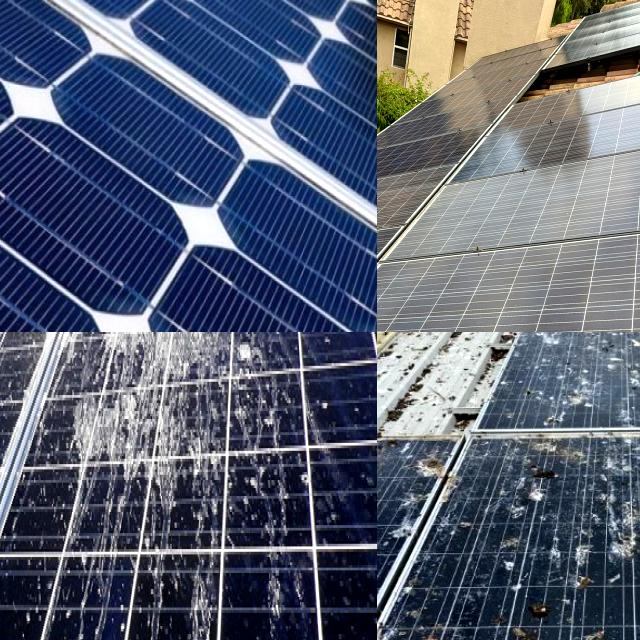bird: (78, 401, 180, 503), (383, 441, 463, 514), (557, 436, 640, 501), (551, 354, 640, 412), (585, 517, 640, 601), (483, 584, 560, 640), (109, 332, 196, 379), (227, 332, 271, 414), (377, 466, 409, 573), (0, 332, 67, 381), (264, 563, 306, 629), (193, 555, 216, 640), (158, 332, 219, 363), (0, 332, 28, 395), (0, 332, 28, 369), (64, 332, 107, 355)
crack: (0, 0, 377, 332)
dust: (505, 237, 610, 332), (390, 256, 473, 332)
